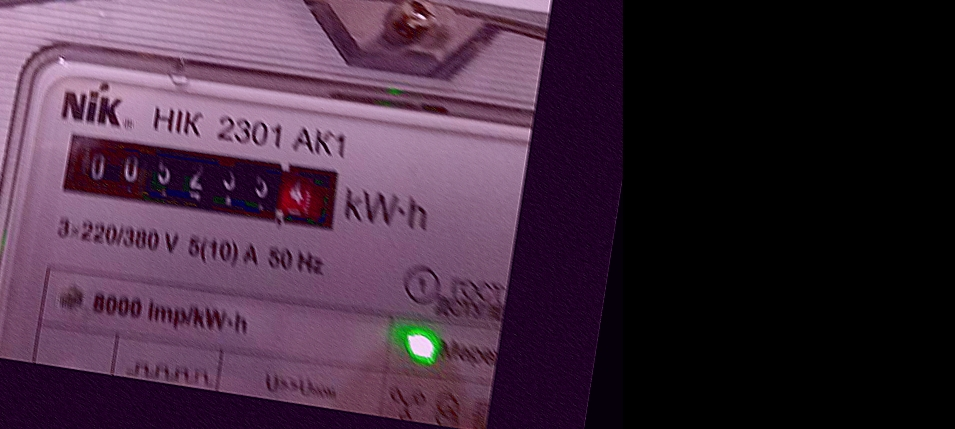0: (119, 149, 144, 184), (87, 148, 110, 181)
2: (185, 156, 211, 193)
3: (217, 159, 245, 195)
4: (284, 169, 312, 208)
5: (250, 163, 277, 202), (153, 152, 177, 187)
screen: (44, 113, 356, 245)
